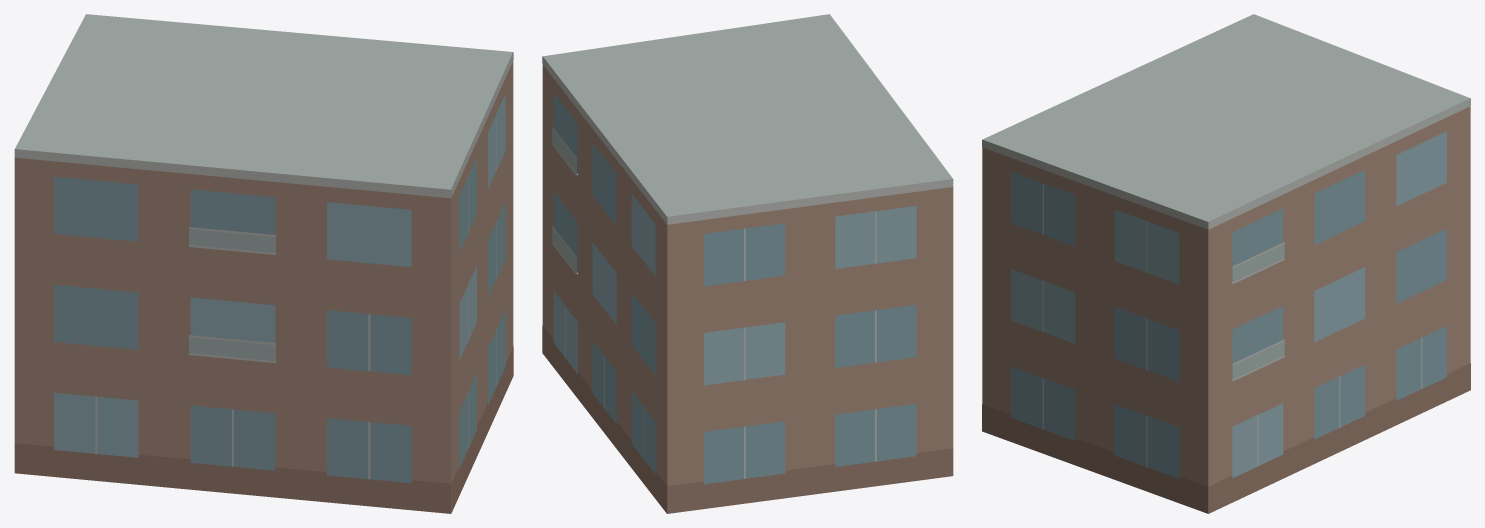
File: survey-upis-32983562.glb
3 views of the same model, side by side, from view 1: azimuth 30°, elevation 25°; view 2: azimuth 150°, elevation 25°; view 3: azimuth 270°, elevation 25° (orthographic). The views are drawn at different scales.
Visible parts, largest first — view 1: survey-upis-32983562.tmp; view 2: survey-upis-32983562.tmp; view 3: survey-upis-32983562.tmp.
Part boxes in pixels (left/top/right/bottom): survey-upis-32983562.tmp: left=14, top=14, right=513, bottom=513; survey-upis-32983562.tmp: left=542, top=14, right=953, bottom=513; survey-upis-32983562.tmp: left=982, top=14, right=1470, bottom=513.
Size of the model in its own units: 13.99 by 9.15 by 13.89.
